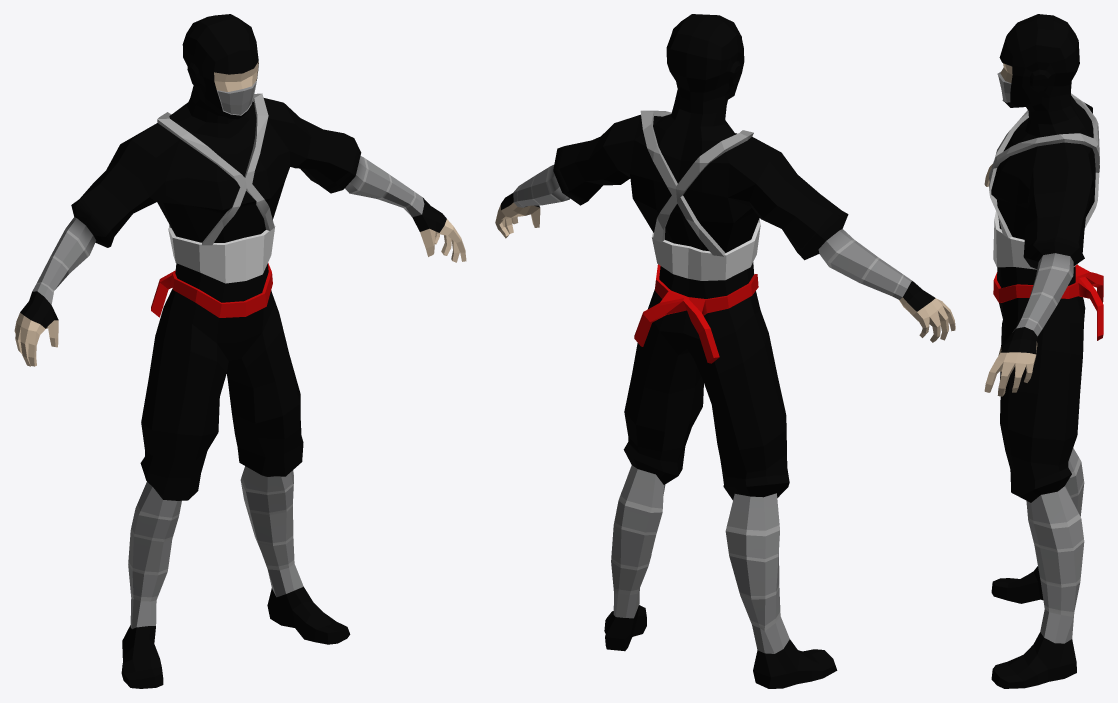
File: sketchNinja.fbx
3 views of the same model, side by side, from view 1: azimuth 30°, elevation 25°; view 2: azimuth 150°, elevation 25°; view 3: azimuth 270°, elevation 25° (orthographic). The views are drawn at different scales.
Parts seen in each view (by area): view 1: NInja; view 2: NInja; view 3: NInja.
Boxes of the visible parts, box(x1,y1,x2,y2) form: NInja: box(14, 14, 466, 688); NInja: box(495, 14, 955, 688); NInja: box(984, 14, 1103, 688).
Bounding box in the file's own units: 11.06 × 15.25 × 2.66.
